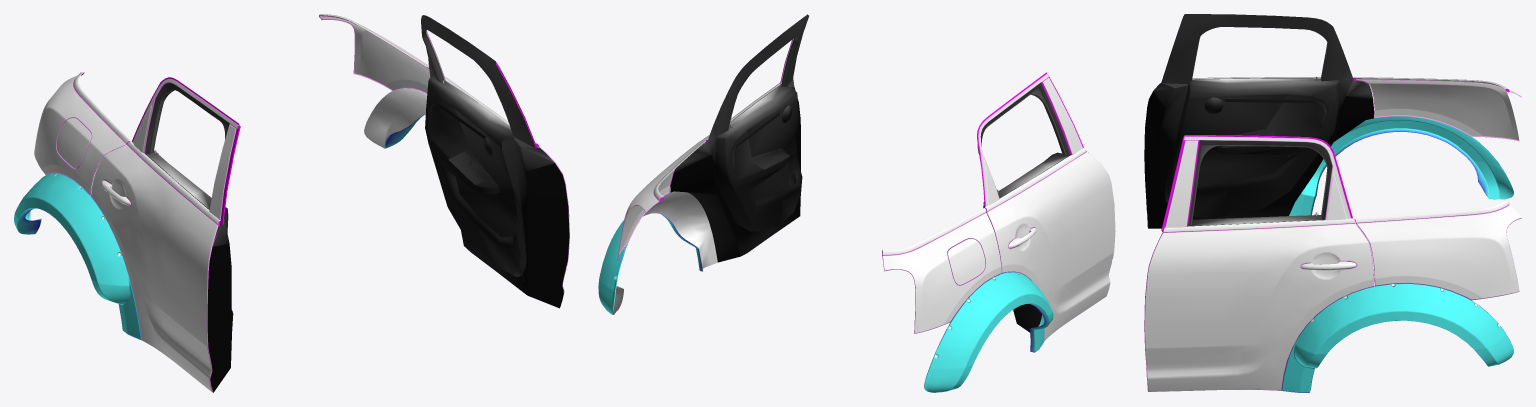
The model's file is Car_Mini_CountrymanJCW_2017_FendersR_SetE_AltA.fbx.
The picture shows the model from 3 angles, left to right: view 1: azimuth 30°, elevation 25°; view 2: azimuth 150°, elevation 25°; view 3: azimuth 270°, elevation 25°; orthographic projection. The views are drawn at different scales.
Parts seen in each view (by area): view 1: FendersR 6; view 2: FendersR 6; view 3: FendersR 6.
Boxes of the visible parts, box(x1,y1,x2,y2) form: FendersR 6: box(14, 14, 569, 392); FendersR 6: box(598, 14, 1115, 392); FendersR 6: box(1144, 14, 1521, 392).
Bounding box in the file's own units: 2 × 1.14 × 1.66.
